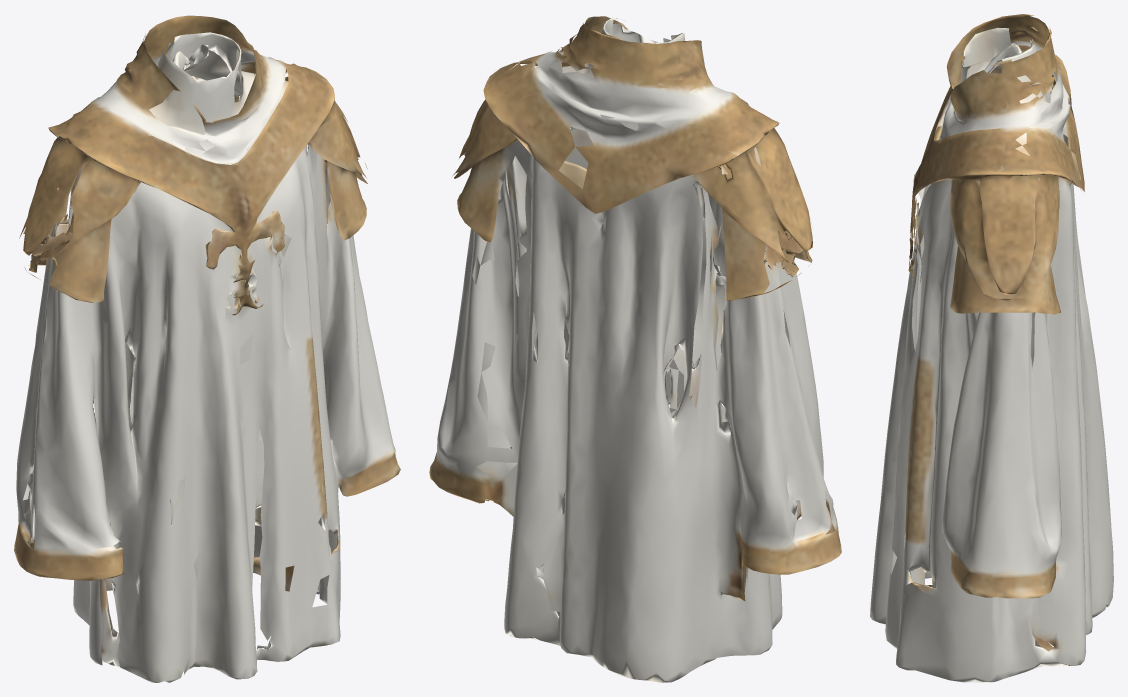
Rendered from armor_priest_vestment_chest.glb.
3 renders of one model, left to right at view 1: azimuth 30°, elevation 25°; view 2: azimuth 150°, elevation 25°; view 3: azimuth 270°, elevation 25°, orthographic. The views are drawn at different scales.
Parts seen in each view (by area): view 1: world; view 2: world; view 3: world.
Boxes of the visible parts, x1,y1,x2,y2 form: world: (14,15,400,682); world: (429,16,841,682); world: (870,14,1113,682).
Size of the model in its own units: 0.666 by 1 by 0.3734.
Materials: 1 (1 with a texture image).
